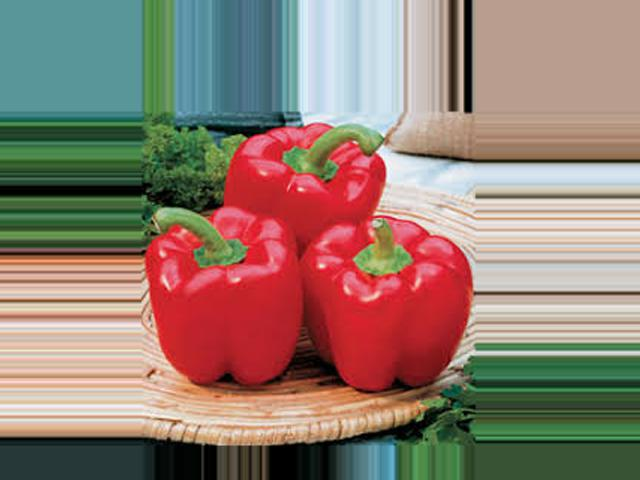bell_pepper: (147, 203, 324, 407)
